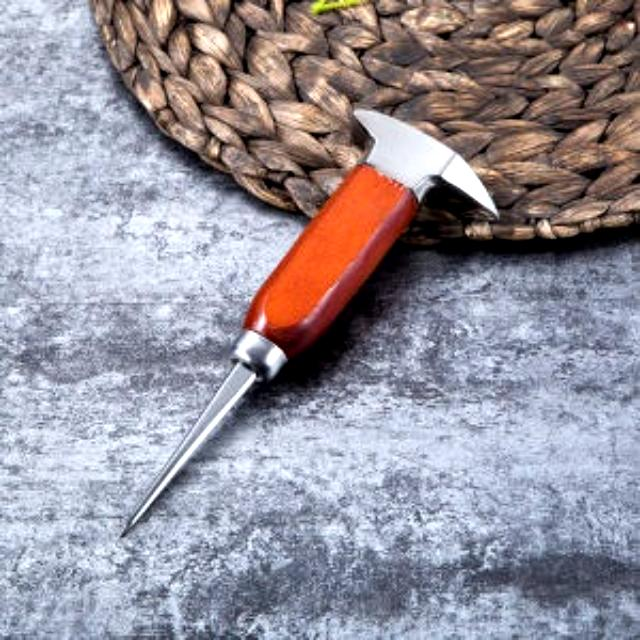ice pick: (119, 108, 498, 538)
